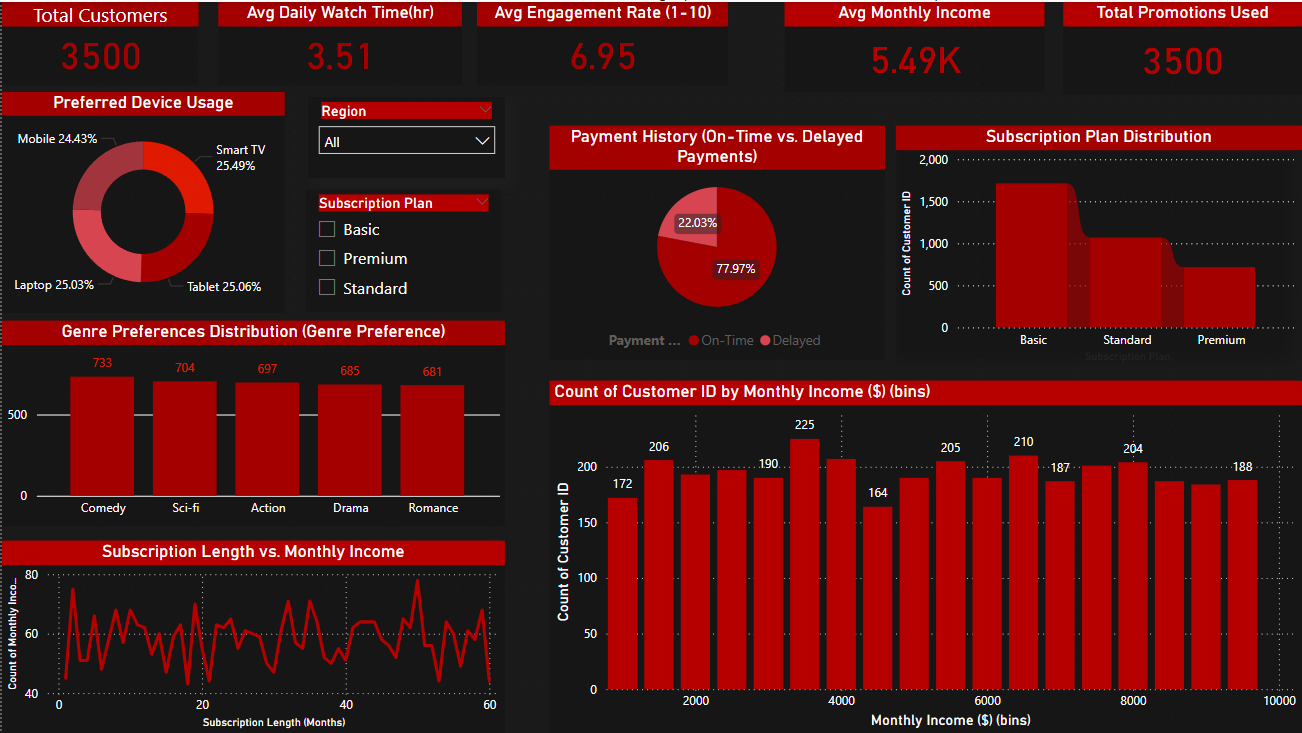

The page's visual inventory and layout, read from the dashboard file:
{"tool":"powerbi","page":{"name":"Page 1","canvas":[1280,720],"ordinal":0},"visuals":[{"type":"card","title":"Total Customers","fields":{"Values":["CountNonNull(cleaned_netflix_engagement.Customer ID)"]},"box":[0,0,193.8,81.2],"z":0},{"type":"card","title":"Avg Daily Watch Time(hr)","fields":{"Values":["Avg(cleaned_netflix_engagement.Daily Watch Time (Hours))"]},"box":[212.5,0,240,81.2],"z":1000},{"type":"card","title":"Avg Engagement Rate (1-10)","fields":{"Values":["Avg(cleaned_netflix_engagement.Engagement Rate (1-10))"]},"box":[467.5,0,247.5,81.2],"z":2000},{"type":"columnChart","title":"Subscription Plan Distribution","fields":{"Category":["cleaned_netflix_engagement.Subscription Plan"],"Y":["CountNonNull(cleaned_netflix_engagement.Customer ID)"]},"box":[880,121.4,400,238.6],"z":3000},{"type":"donutChart","title":"Preferred Device Usage","fields":{"Y":["CountNonNull(cleaned_netflix_engagement.Customer ID)"],"Category":["cleaned_netflix_engagement.Device Used Most Often"]},"box":[0,88.3,278.3,217.8],"z":4000},{"type":"columnChart","title":"Genre Preferences Distribution (Genre Preference)","fields":{"Category":["cleaned_netflix_engagement.Genre Preference"],"Y":["CountNonNull(cleaned_netflix_engagement.Customer ID)"]},"box":[0,313.8,495,202.5],"z":5000},{"type":"slicer","fields":{"Values":["cleaned_netflix_engagement.Region"]},"box":[301.2,93.8,193.8,80],"z":6000},{"type":"slicer","fields":{"Values":["cleaned_netflix_engagement.Subscription Plan"]},"box":[299,185,193,121],"z":7000},{"type":"pieChart","title":"Payment History (On-Time vs. Delayed Payments)","fields":{"Category":["cleaned_netflix_engagement.Payment History (On-Time/Delayed)"],"Y":["CountNonNull(cleaned_netflix_engagement.Customer ID)"]},"box":[538.6,121.4,330,230],"z":8000},{"type":"lineChart","title":"Subscription Length vs. Monthly Income","fields":{"Y":["CountNonNull(cleaned_netflix_engagement.Monthly Income ($))"],"Category":["cleaned_netflix_engagement.Subscription Length (Months)"]},"box":[0,530,495,190],"z":9000},{"type":"card","title":"Avg Monthly Income","fields":{"Values":["Avg(cleaned_netflix_engagement.Monthly Income ($))"]},"box":[770,0,256.2,88.8],"z":10000},{"type":"card","title":"Total Promotions Used","fields":{"Values":["CountNonNull(cleaned_netflix_engagement.Promotional Offers Used)"]},"box":[1045,0,235,91.2],"z":11000},{"type":"columnChart","fields":{"Category":["cleaned_netflix_engagement.Monthly Income ($) (bins)"],"Y":["CountNonNull(cleaned_netflix_engagement.Customer ID)"]},"box":[538.5,372.3,741.5,347.7],"z":12000}]}

Visuals, with their boxes in screenshot pixels (x1, y1, x2, y2), scaled from the page's 1280x720 canvas onto the 1302x733 screenshot:
"Total Customers" card: bbox=(0, 0, 197, 83)
"Avg Daily Watch Time(hr)" card: bbox=(216, 0, 460, 83)
"Avg Engagement Rate (1-10)" card: bbox=(476, 0, 727, 83)
"Subscription Plan Distribution" columnChart: bbox=(895, 124, 1301, 366)
"Preferred Device Usage" donutChart: bbox=(0, 90, 283, 312)
"Genre Preferences Distribution (Genre Preference)" columnChart: bbox=(0, 319, 504, 526)
slicer - cleaned_netflix_engagement.Region: bbox=(306, 95, 504, 177)
slicer - cleaned_netflix_engagement.Subscription Plan: bbox=(304, 188, 500, 312)
"Payment History (On-Time vs. Delayed Payments)" pieChart: bbox=(548, 124, 884, 358)
"Subscription Length vs. Monthly Income" lineChart: bbox=(0, 540, 504, 732)
"Avg Monthly Income" card: bbox=(783, 0, 1044, 90)
"Total Promotions Used" card: bbox=(1063, 0, 1301, 93)
columnChart - cleaned_netflix_engagement.Monthly Income ($) (bins) x CountNonNull(cleaned_netflix_engagement.Customer ID): bbox=(548, 379, 1301, 732)
